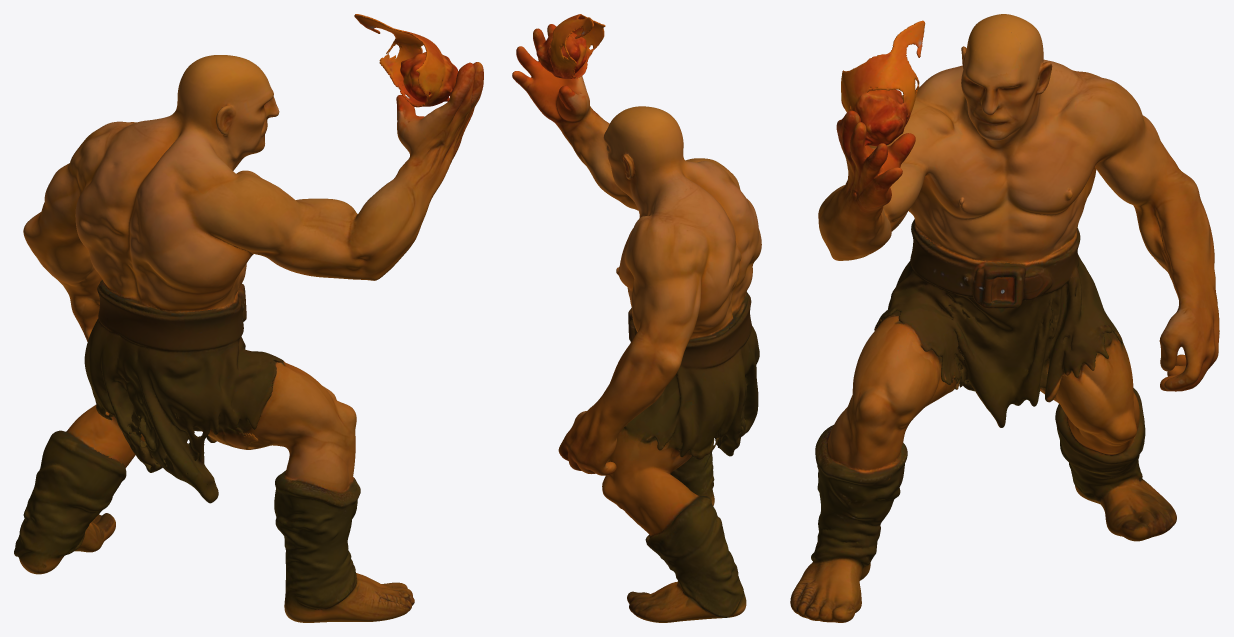
3 views of the same model, side by side, from view 1: azimuth 30°, elevation 25°; view 2: azimuth 150°, elevation 25°; view 3: azimuth 270°, elevation 25° (orthographic). The views are drawn at different scales.
Parts seen in each view (by area): view 1: tripo_node_2a3266e7-45e3-4de2-ba95-8bf789ccb8ee; view 2: tripo_node_2a3266e7-45e3-4de2-ba95-8bf789ccb8ee; view 3: tripo_node_2a3266e7-45e3-4de2-ba95-8bf789ccb8ee.
Part boxes in pixels (bbox=[...]): tripo_node_2a3266e7-45e3-4de2-ba95-8bf789ccb8ee: bbox=[14, 14, 483, 622]; tripo_node_2a3266e7-45e3-4de2-ba95-8bf789ccb8ee: bbox=[512, 14, 761, 622]; tripo_node_2a3266e7-45e3-4de2-ba95-8bf789ccb8ee: bbox=[790, 14, 1219, 622].
Bounding box in the file's own units: 0.6677 × 1 × 0.6427.
1 material, 1 textured.
